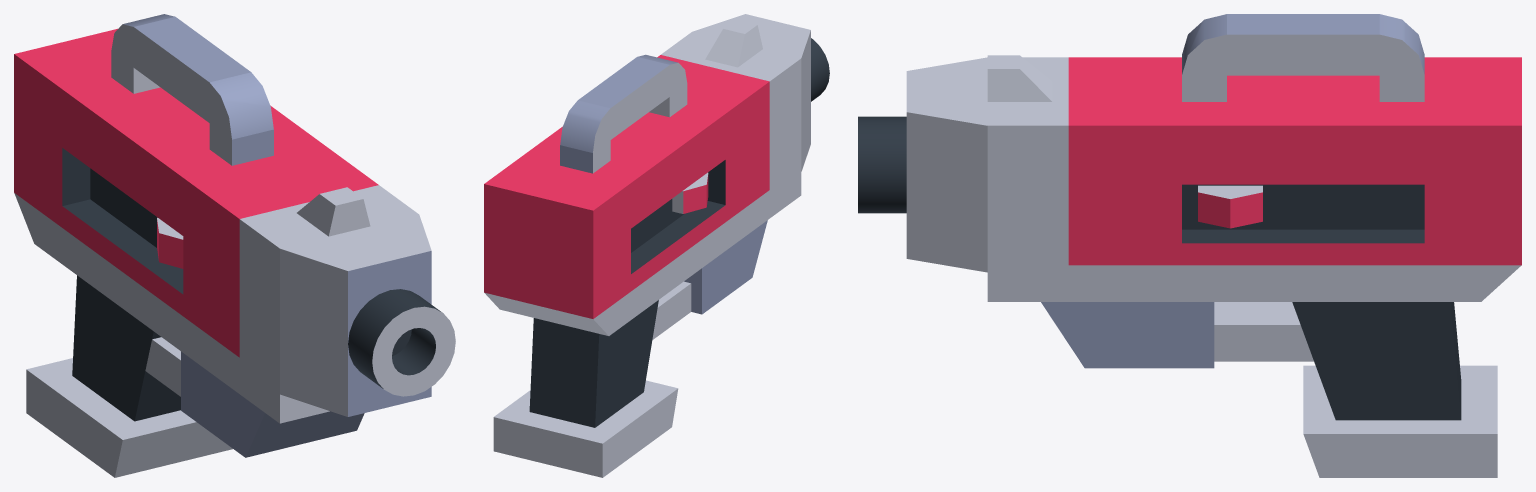
The model's file is blasterB.glb.
The picture shows the model from 3 angles, left to right: view 1: azimuth 30°, elevation 25°; view 2: azimuth 150°, elevation 25°; view 3: azimuth 270°, elevation 25°; orthographic projection. The views are drawn at different scales.
Visible parts, largest first — view 1: blasterB; view 2: blasterB; view 3: blasterB.
Boxes of the visible parts, left/top/right/bottom form: blasterB: left=14, top=14, right=455, bottom=477; blasterB: left=484, top=14, right=829, bottom=477; blasterB: left=858, top=14, right=1521, bottom=477.
Size of the model in its own units: 0.1 by 0.2859 by 0.41.
